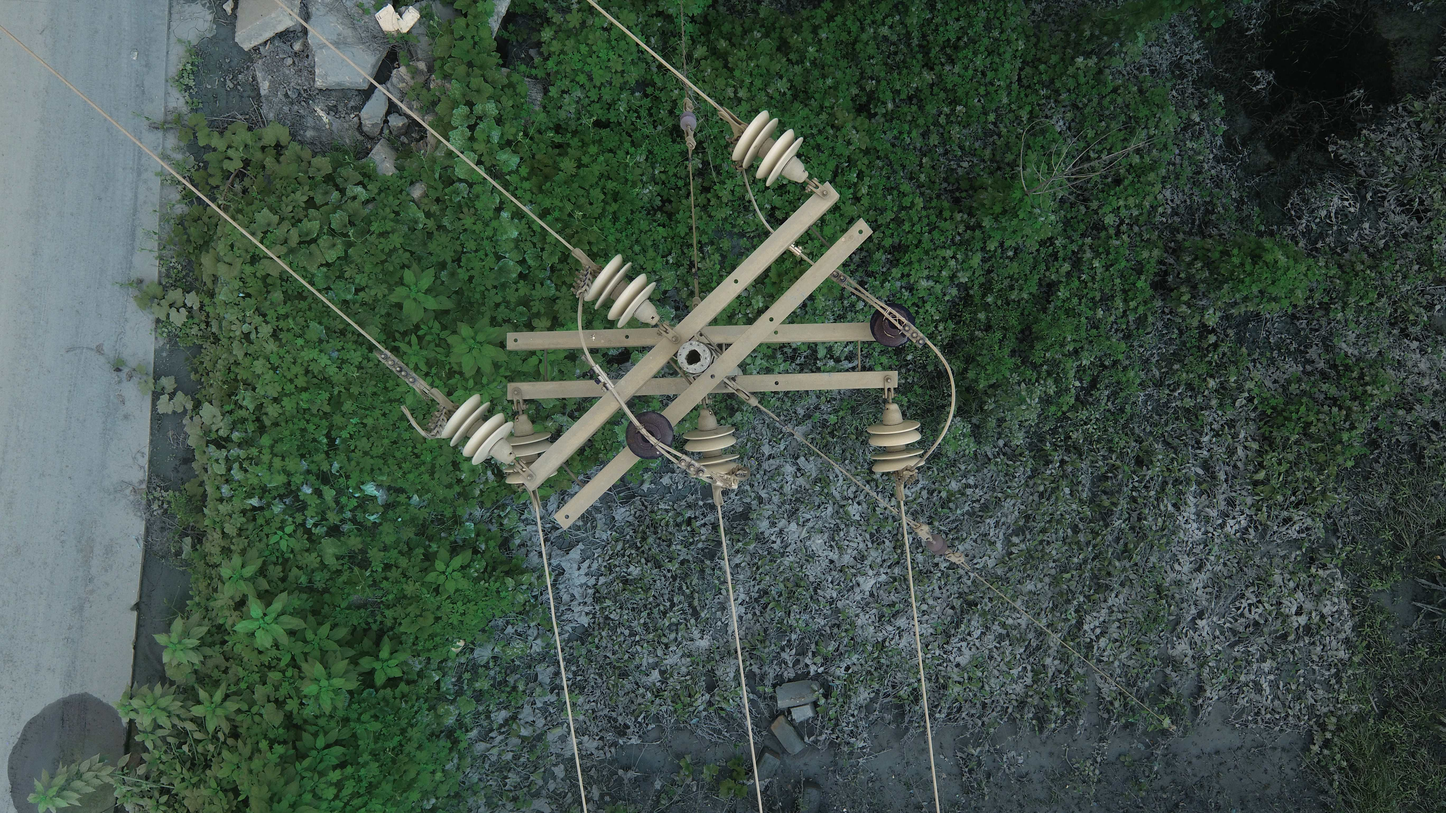severe_soiling_no_discharge_whole: (622, 410, 678, 459)
